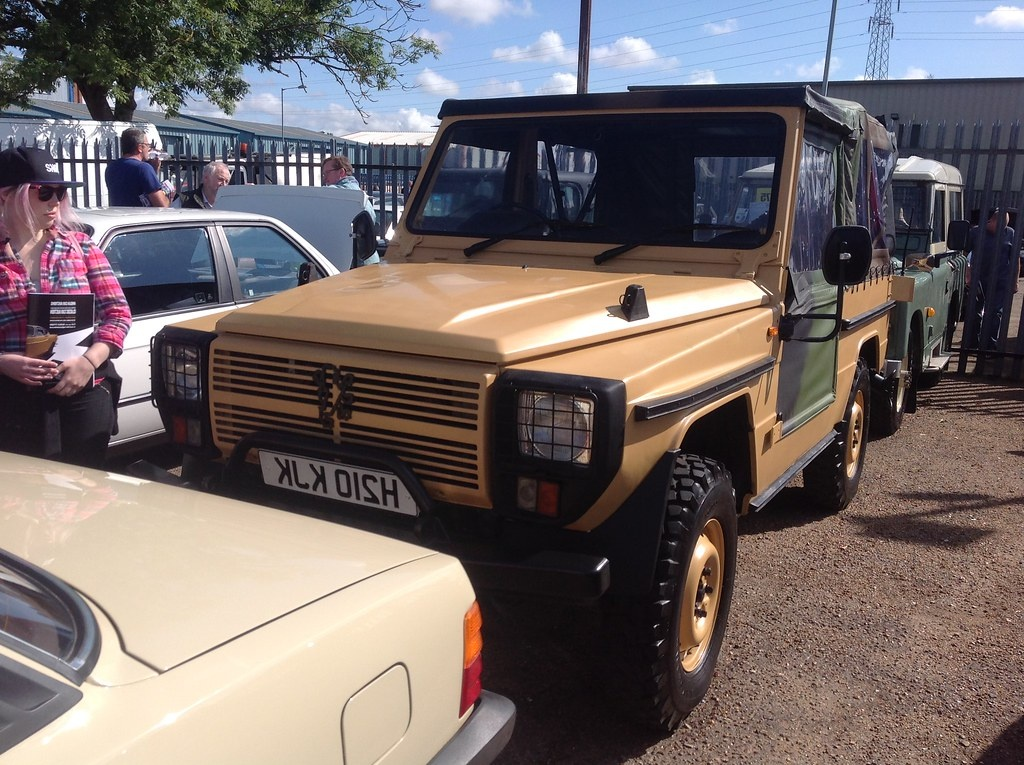license_plate: (260, 451, 419, 515)
